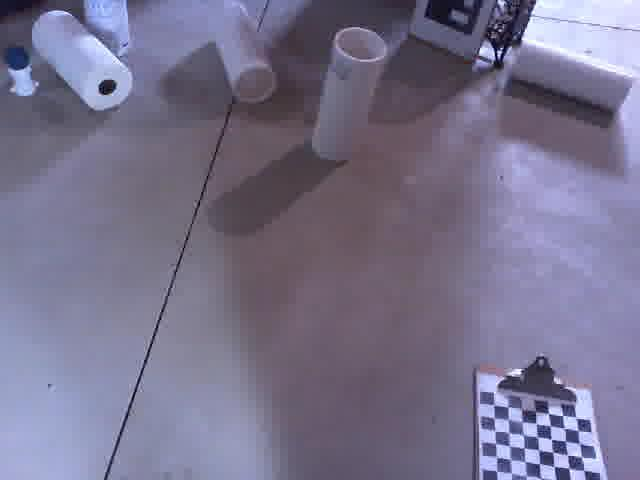coral: (306, 21, 391, 168), (204, 0, 282, 109), (75, 0, 134, 72)
